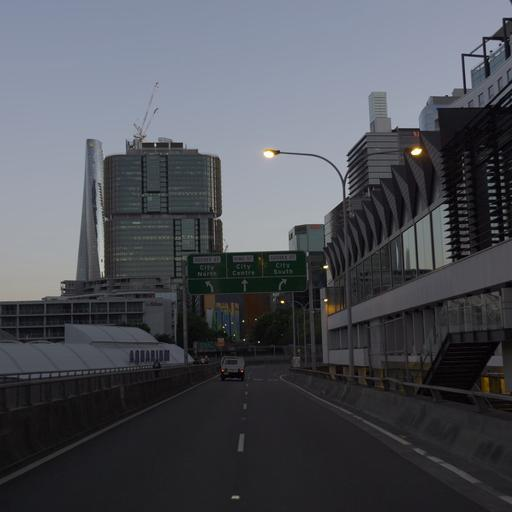Street light: (261, 143, 424, 381), (278, 294, 328, 368), (278, 296, 297, 362)
